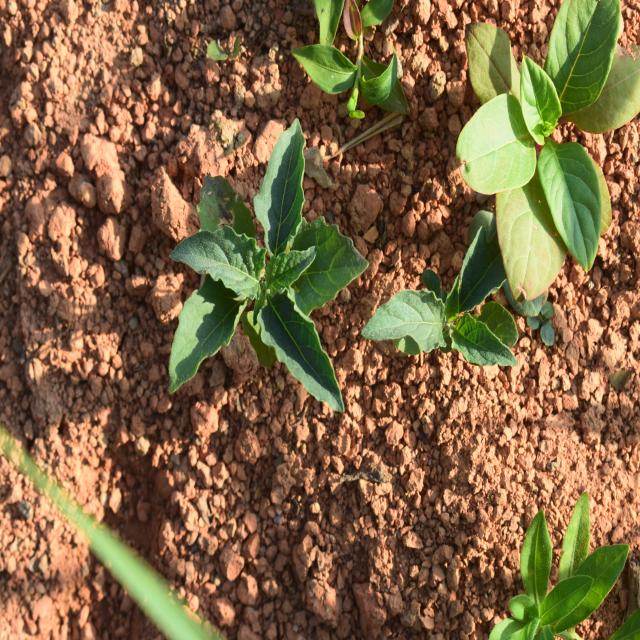Black_nightshade: (174, 132, 353, 418), (378, 236, 534, 388)
